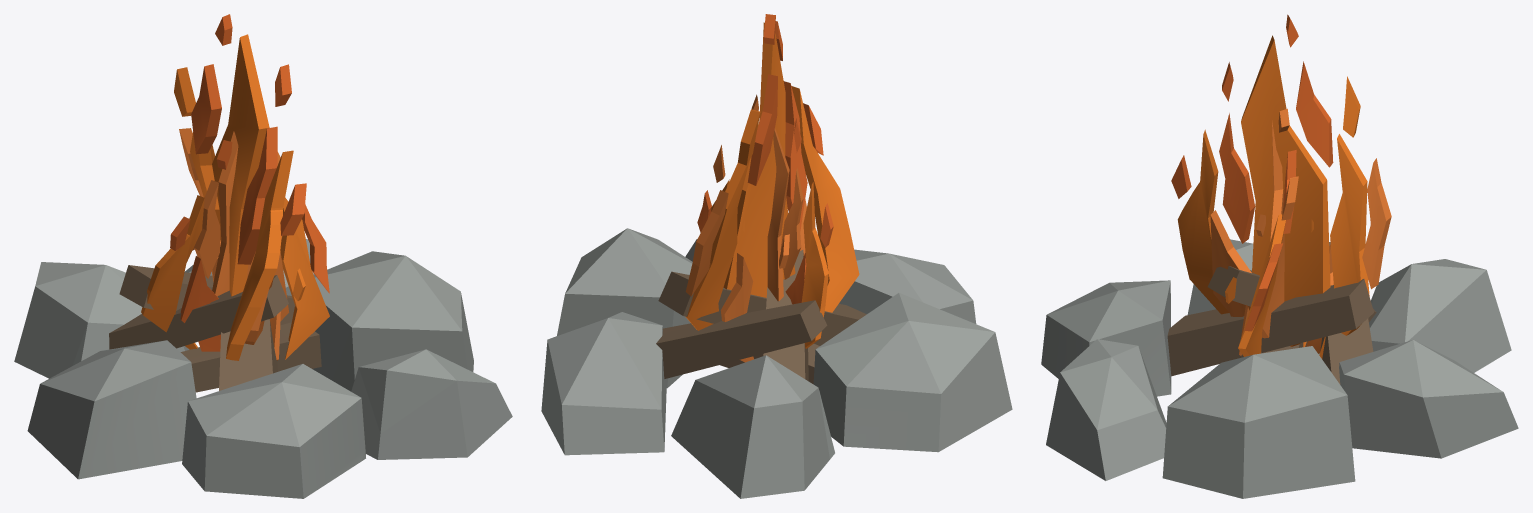
The model's file is Fireplace.fbx.
3 views of the same model, side by side, from view 1: azimuth 30°, elevation 25°; view 2: azimuth 150°, elevation 25°; view 3: azimuth 270°, elevation 25° (orthographic).
Visible parts, largest first — view 1: Fireplace; view 2: Fireplace; view 3: Fireplace.
Part boxes in pixels (x1=…): Fireplace: x1=14, y1=14, x2=512, y2=498; Fireplace: x1=541, y1=14, x2=1012, y2=498; Fireplace: x1=1041, y1=14, x2=1518, y2=498.
Bounding box in the file's own units: 53.33 × 46.52 × 53.63.
1 material, 1 textured.
